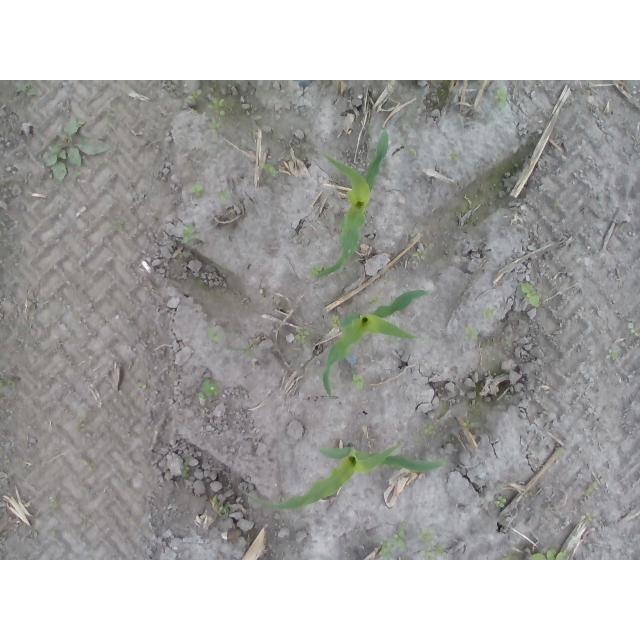Maize: (246, 441, 450, 511), (321, 289, 431, 399), (316, 130, 388, 279)
Weeds: (39, 120, 114, 185), (416, 528, 449, 561), (378, 526, 408, 560), (500, 548, 569, 561), (207, 88, 226, 129), (195, 376, 221, 400), (519, 281, 541, 308), (209, 494, 231, 520), (184, 88, 205, 106), (15, 80, 38, 96), (293, 326, 311, 344), (260, 163, 281, 178), (495, 87, 509, 109), (207, 324, 222, 344), (312, 264, 329, 281), (351, 371, 365, 391), (413, 248, 433, 261), (0, 376, 16, 392), (183, 225, 194, 247), (464, 327, 480, 342), (217, 190, 231, 207), (192, 183, 209, 197), (483, 306, 497, 322), (239, 343, 255, 357), (423, 422, 441, 434), (113, 218, 128, 232), (246, 109, 263, 121), (179, 463, 190, 481), (493, 495, 507, 508), (447, 149, 461, 161), (463, 420, 481, 429), (368, 295, 384, 305), (586, 481, 598, 494), (48, 498, 60, 511), (629, 323, 640, 337), (329, 313, 340, 327), (432, 88, 448, 97), (580, 512, 592, 522), (136, 382, 149, 391), (176, 251, 192, 258), (247, 127, 258, 137), (607, 349, 617, 359), (554, 127, 561, 140), (407, 148, 417, 157), (555, 446, 561, 458), (340, 302, 352, 308)
